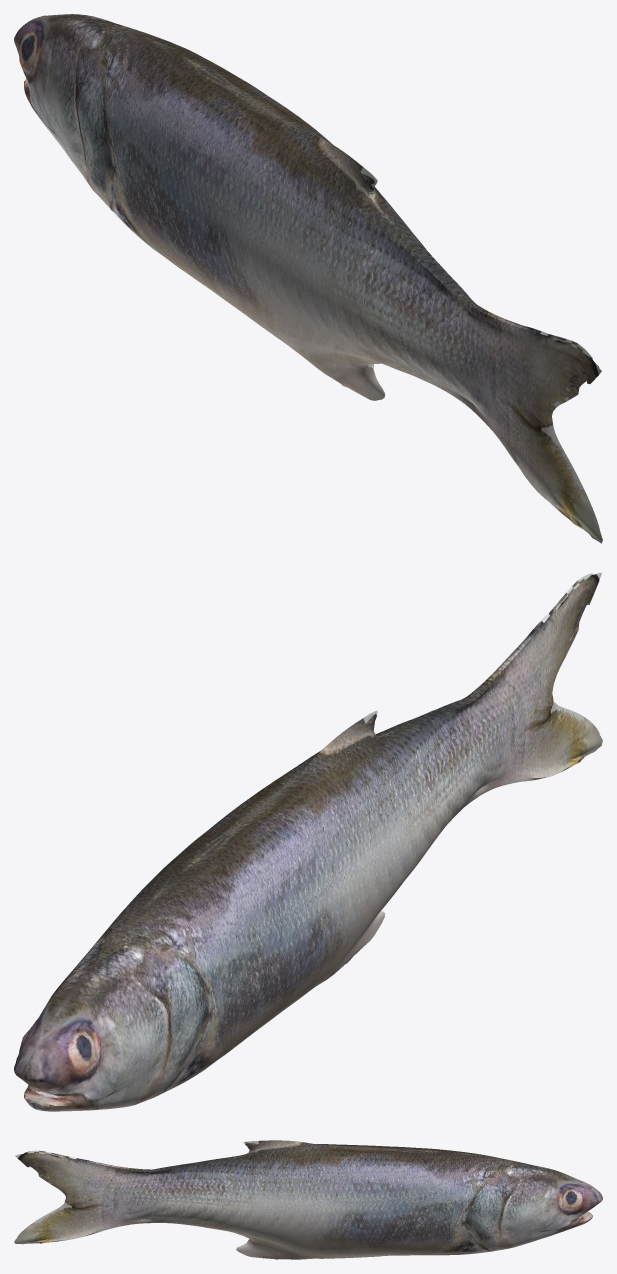
Rendered from fish.gltf.
3 views of the same model, one above another, from view 1: azimuth 30°, elevation 25°; view 2: azimuth 150°, elevation 25°; view 3: azimuth 270°, elevation 25° (orthographic). The views are drawn at different scales.
Parts seen in each view (by area): view 1: Retopo_fish.001; view 2: Retopo_fish.001; view 3: Retopo_fish.001.
Part boxes in pixels (x1=…): Retopo_fish.001: x1=14, y1=14, x2=602, y2=543; Retopo_fish.001: x1=14, y1=572, x2=602, y2=1111; Retopo_fish.001: x1=14, y1=1140, x2=602, y2=1259.
Bounding box in the file's own units: 0.4706 × 1 × 4.5.
Materials: 1 (1 with a texture image).
